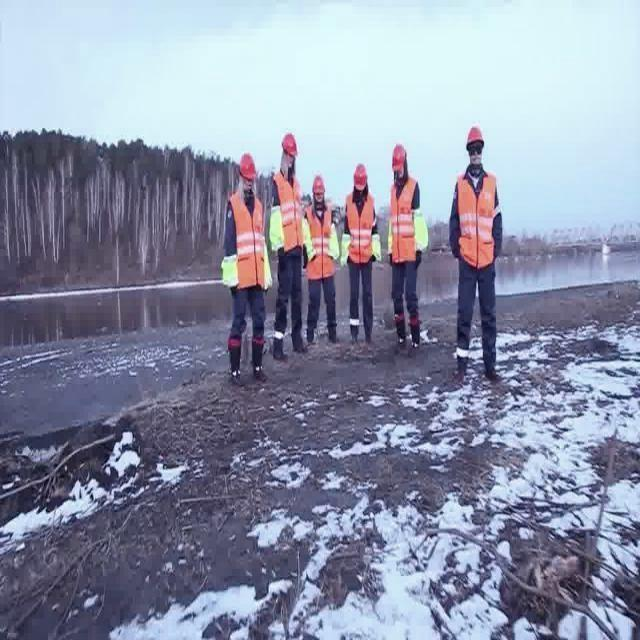10: (448, 122, 506, 391), (208, 154, 268, 388), (268, 125, 310, 372), (386, 136, 433, 342), (337, 153, 380, 348), (302, 169, 346, 353)
11: (229, 190, 267, 290), (270, 173, 306, 255), (346, 192, 377, 266), (306, 203, 334, 277), (392, 182, 416, 264), (270, 193, 284, 252), (412, 207, 428, 252), (224, 251, 238, 292), (302, 217, 314, 263), (263, 247, 273, 293), (330, 227, 340, 266), (340, 230, 350, 260), (372, 232, 380, 264)
2: (462, 116, 496, 169), (386, 138, 416, 195), (272, 125, 304, 176), (232, 148, 263, 200), (348, 159, 372, 201), (309, 176, 328, 216)
helmet_white: (220, 330, 246, 402), (243, 334, 267, 394), (476, 342, 507, 385), (447, 346, 472, 390), (344, 313, 365, 357), (358, 309, 378, 350), (272, 319, 288, 369), (405, 315, 425, 353), (320, 316, 342, 348), (391, 313, 409, 351), (293, 307, 303, 359), (307, 321, 318, 346)
